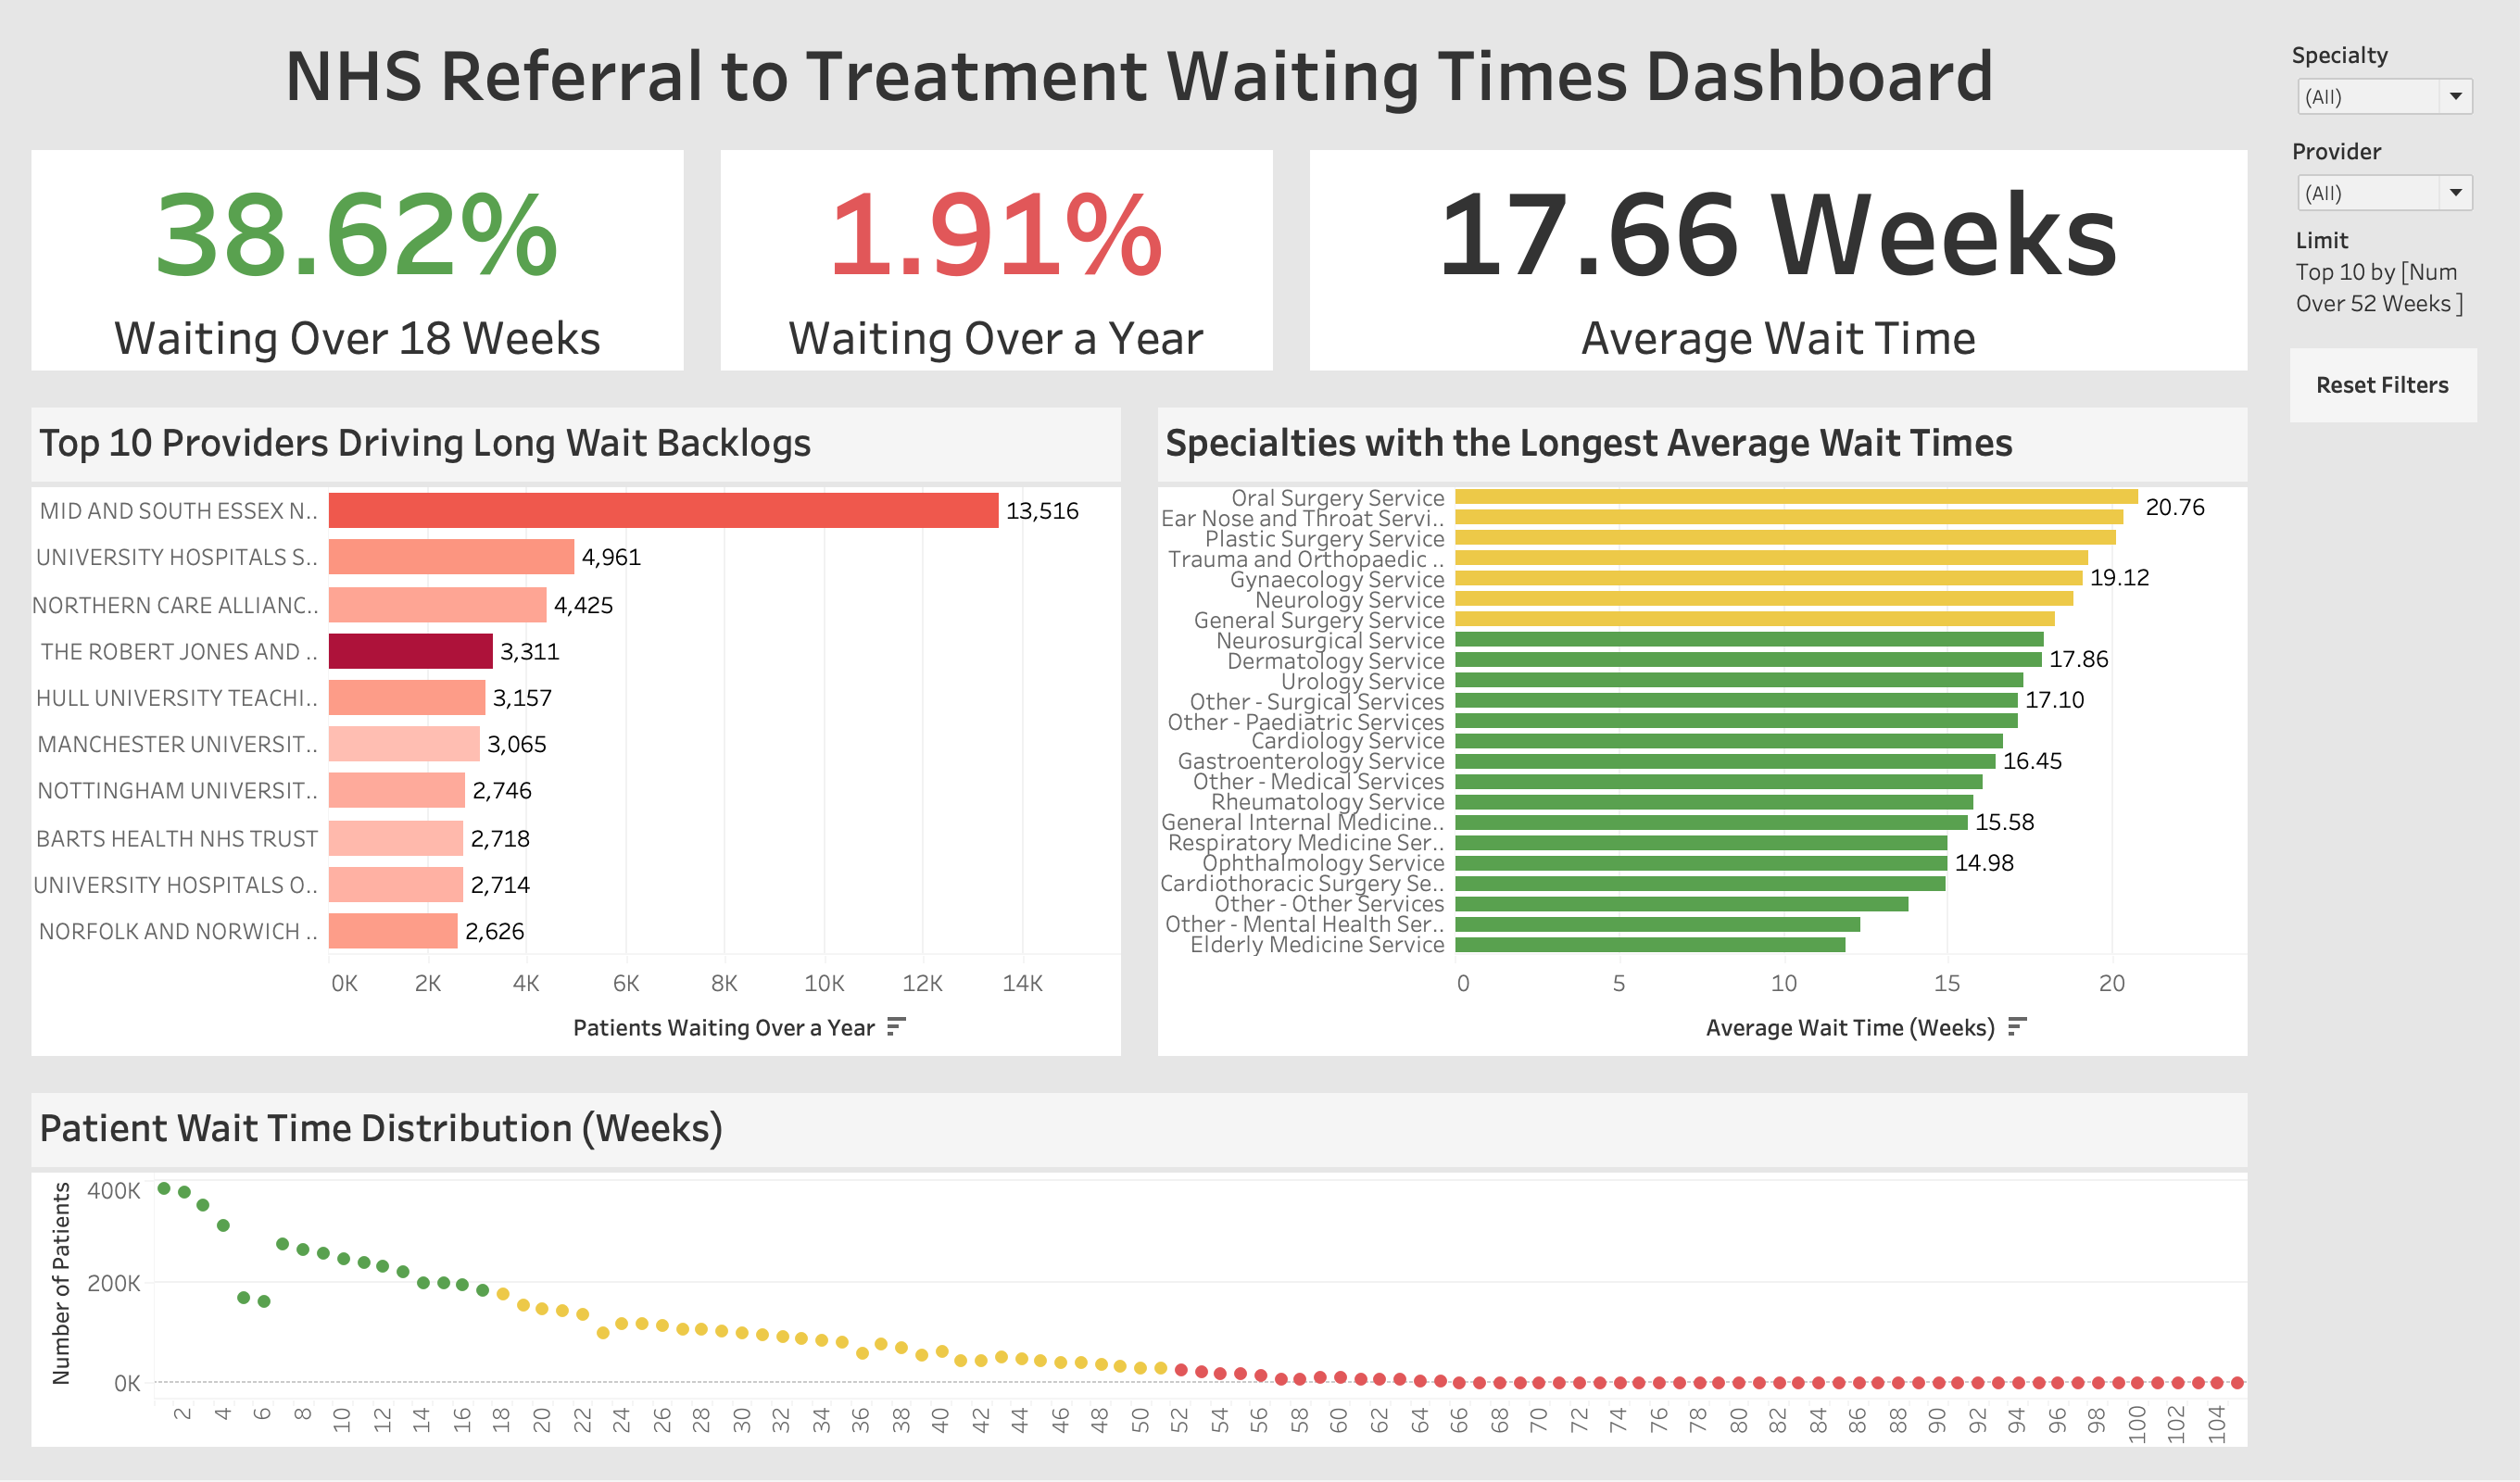

The page's visual inventory and layout, read from the dashboard file:
{"tool":"tableau","page":{"name":"Dashboard","canvas":[1000,1000],"units":"permille","ordinal":0},"visuals":[{"type":"text","box":[5.9,10,893.5,80.5]},{"type":"filter","title":"Specialties with the Longest Average Wait Times","param":"[federated.1fnzhax1ip458y10vv2f11ti3kpl].[none:specialty:nk]","box":[906.7,22.5,80.1,65]},{"type":"filter","title":"Top 10 Providers Driving Long Wait Backlogs","param":"[federated.1fnzhax1ip458y10vv2f11ti3kpl].[none:provider:nk]","box":[906.7,87.5,80.1,138.8]},{"type":"worksheet","title":"% Waiting > 18 Weeks","mark":"Automatic","box":[5.9,90.5,273.3,173.2]},{"type":"worksheet","title":"% Waiting > 52 Weeks","mark":"Automatic","box":[279.2,90.5,233.7,173.2]},{"type":"worksheet","title":"Average Wait Time","mark":"Automatic","box":[512.9,90.5,386.5,173.2]},{"type":"worksheet","title":"Reset","mark":"Automatic","box":[908.9,236.2,74.2,50]},{"type":"worksheet","title":"Top 10 Providers Driving Long Wait Backlogs","mark":"Automatic","rows":["provider"],"cols":["% Over 52 Weeks (copy)_0801871425798147"],"box":[5.9,263.8,446.6,462.5]},{"type":"worksheet","title":"Specialties with the Longest Average Wait Times","mark":"Automatic","rows":["specialty"],"cols":["Calculation_0801871424716802"],"box":[452.5,263.8,446.8,462.4]},{"type":"worksheet","title":"Patient Wait Time Distribution (Weeks)","mark":"Circle","rows":["patient_count"],"cols":["weeks_waiting"],"box":[5.9,726.2,893.5,263.8]}]}

Visuals, with their boxes on the dashboard's canvas, which has no fixed pixel size, in thousandths of its width and height (x1, y1, x2, y2). These are canvas units, not pixel positions in the 2520x1482 screenshot, which may show the page scaled, cropped or inside an application window:
text: (6,10,899,90)
"Specialties with the Longest Average Wait Times" filter: (907,22,987,88)
"Top 10 Providers Driving Long Wait Backlogs" filter: (907,88,987,226)
"% Waiting > 18 Weeks" worksheet: (6,90,279,264)
"% Waiting > 52 Weeks" worksheet: (279,90,513,264)
"Average Wait Time" worksheet: (513,90,899,264)
"Reset" worksheet: (909,236,983,286)
"Top 10 Providers Driving Long Wait Backlogs" worksheet: (6,264,452,726)
"Specialties with the Longest Average Wait Times" worksheet: (452,264,899,726)
"Patient Wait Time Distribution (Weeks)" worksheet (Circle marks): (6,726,899,990)
